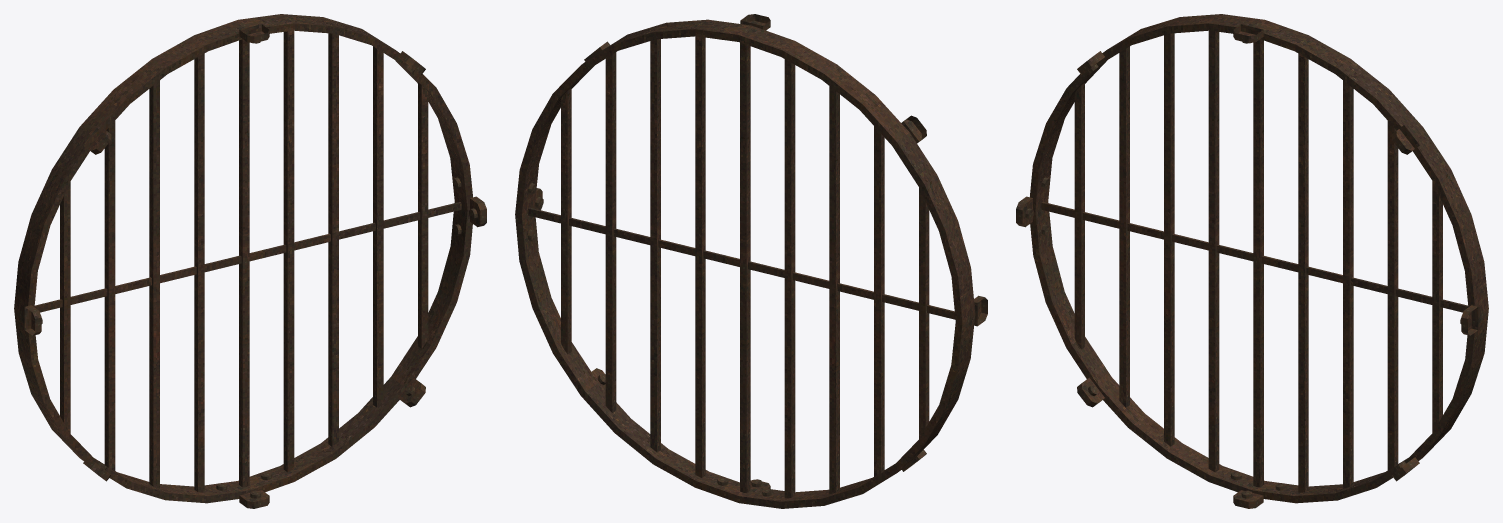
File: concrete_pipe_hm_1_end_bars_1.glb
The picture shows the model from 3 angles, left to right: view 1: azimuth 30°, elevation 25°; view 2: azimuth 150°, elevation 25°; view 3: azimuth 330°, elevation 25°; orthographic projection.
Parts seen in each view (by area): view 1: concrete_pipe_hm_1_end_bars_1; view 2: concrete_pipe_hm_1_end_bars_1; view 3: concrete_pipe_hm_1_end_bars_1.
Part boxes in pixels (x1,y1,x2,y2): concrete_pipe_hm_1_end_bars_1: [14, 14, 486, 508]; concrete_pipe_hm_1_end_bars_1: [515, 14, 987, 508]; concrete_pipe_hm_1_end_bars_1: [1016, 14, 1488, 508].
Size of the model in its own units: 2.02 by 2.02 by 0.18.
1 material, 1 textured.
